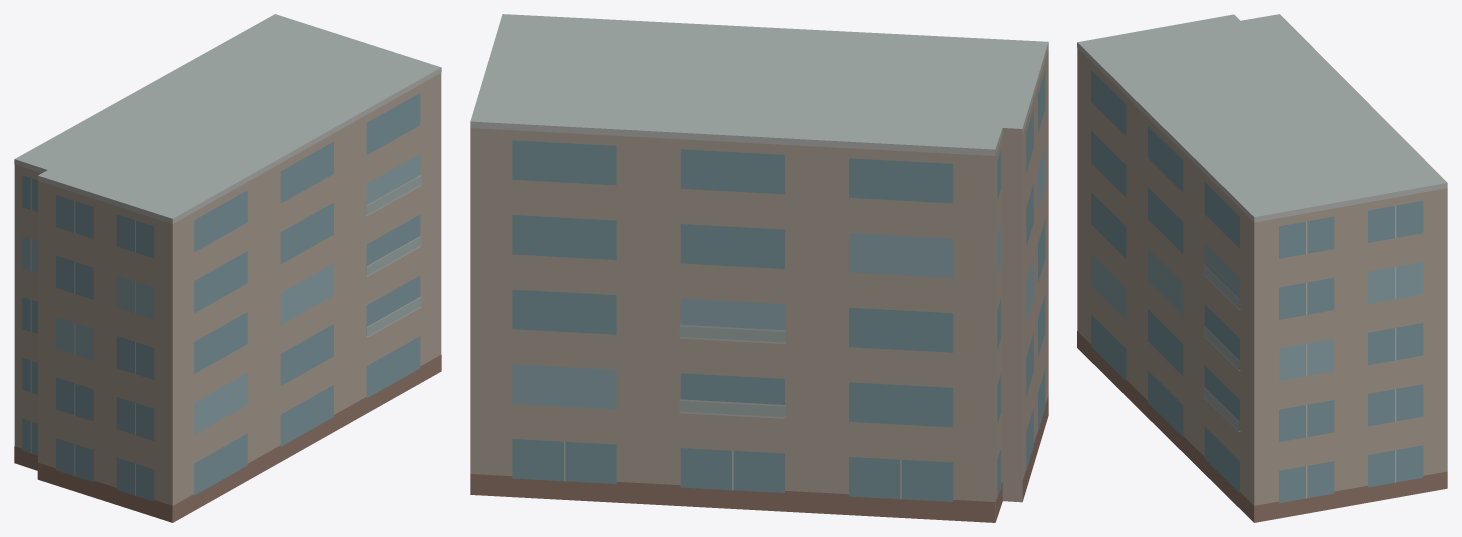
File: survey-upis-32519205.glb
3 views of the same model, side by side, from view 1: azimuth 30°, elevation 25°; view 2: azimuth 150°, elevation 25°; view 3: azimuth 270°, elevation 25° (orthographic). The views are drawn at different scales.
Parts seen in each view (by area): view 1: survey-upis-32519205.tmp; view 2: survey-upis-32519205.tmp; view 3: survey-upis-32519205.tmp.
Part boxes in pixels (left/top/right/bottom): survey-upis-32519205.tmp: left=14, top=14, right=441, bottom=522; survey-upis-32519205.tmp: left=470, top=14, right=1048, bottom=522; survey-upis-32519205.tmp: left=1077, top=14, right=1447, bottom=522.
Size of the model in its own units: 20.04 by 14.05 by 15.45.
